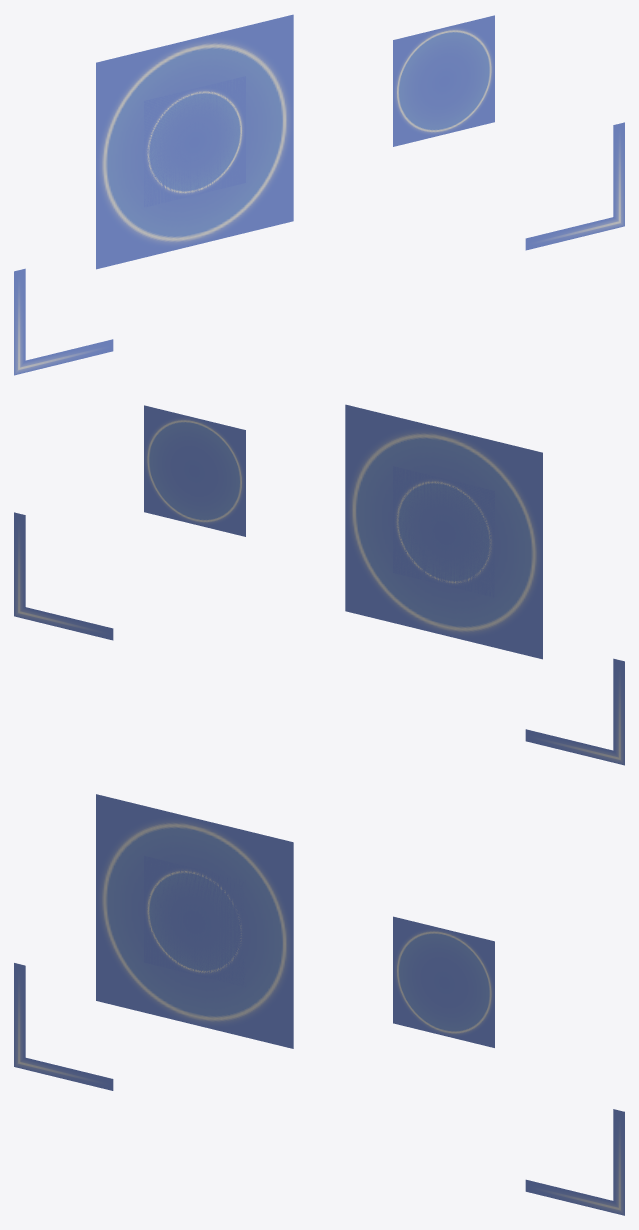
File: UI_Moving.fbx
The picture shows the model from 3 angles, top to bottom: view 1: azimuth 30°, elevation 25°; view 2: azimuth 150°, elevation 25°; view 3: azimuth 330°, elevation 25°; orthographic projection.
Parts seen in each view (by area): view 1: LeftThumb, button, anchor, LowerLeft, LowerRight; view 2: LeftThumb, button, anchor, LowerLeft, LowerRight; view 3: LeftThumb, button, anchor, LowerLeft, LowerRight.
Boxes of the visible parts, left/top/right/bottom form: LeftThumb: left=96, top=14, right=293, bottom=269; button: left=393, top=15, right=494, bottom=146; anchor: left=144, top=76, right=245, bottom=207; LowerLeft: left=14, top=268, right=113, bottom=375; LowerRight: left=525, top=122, right=624, bottom=250; LeftThumb: left=345, top=404, right=542, bottom=659; button: left=144, top=405, right=245, bottom=536; anchor: left=393, top=466, right=494, bottom=597; LowerLeft: left=525, top=658, right=624, bottom=765; LowerRight: left=14, top=512, right=113, bottom=640; LeftThumb: left=96, top=794, right=293, bottom=1048; button: left=393, top=916, right=494, bottom=1047; anchor: left=144, top=856, right=245, bottom=986; LowerLeft: left=14, top=963, right=113, bottom=1090; LowerRight: left=525, top=1109, right=624, bottom=1215.
Bounding box in the file's own units: 0.5566 × 0.2549 × 0.
Materials: 1 (1 with a texture image).
